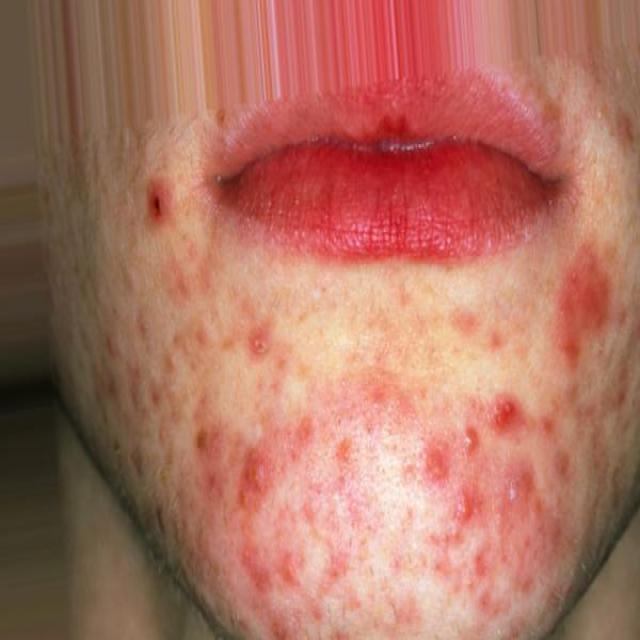acne: (214, 423, 290, 526), (138, 162, 170, 230)
